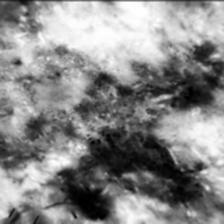Potentially Malignant Skin Tumors: (44, 42, 222, 220)
